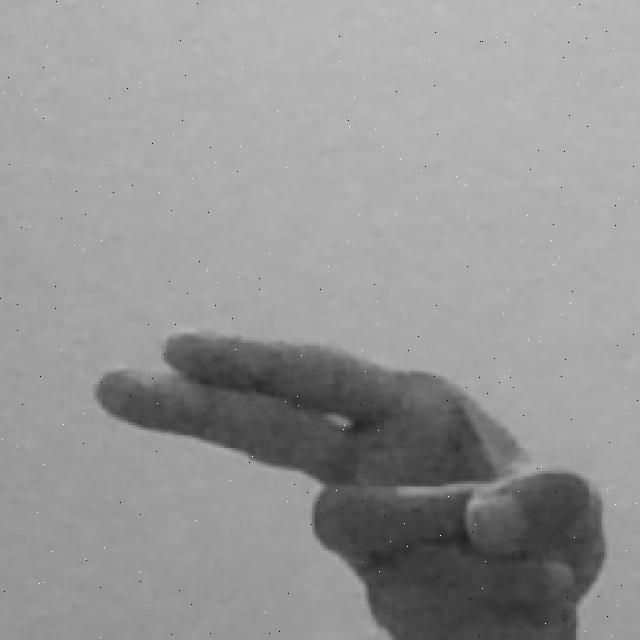H: (83, 322, 616, 640)
